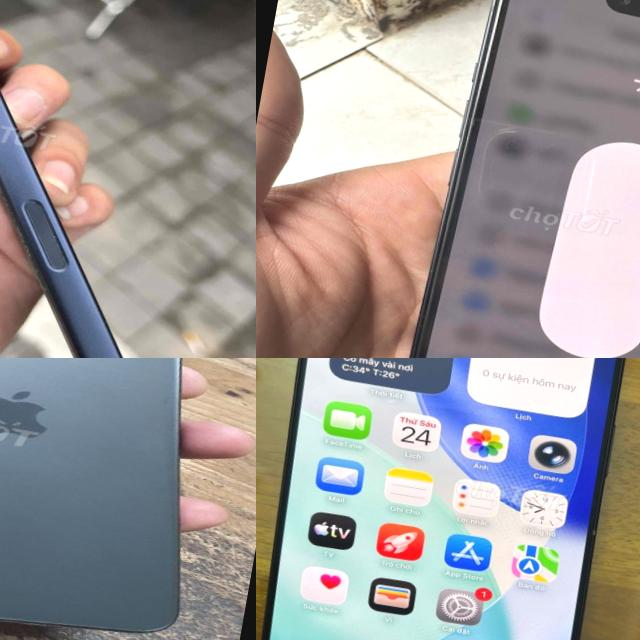gen_11: (0, 358, 256, 640)
gen_12_13: (382, 0, 640, 358)
gen_17: (260, 358, 626, 640), (0, 95, 122, 358)
